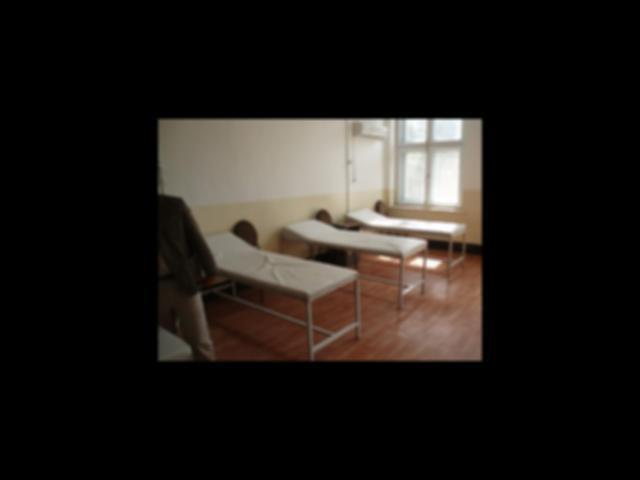Bote de Basura: (340, 222, 363, 268)
